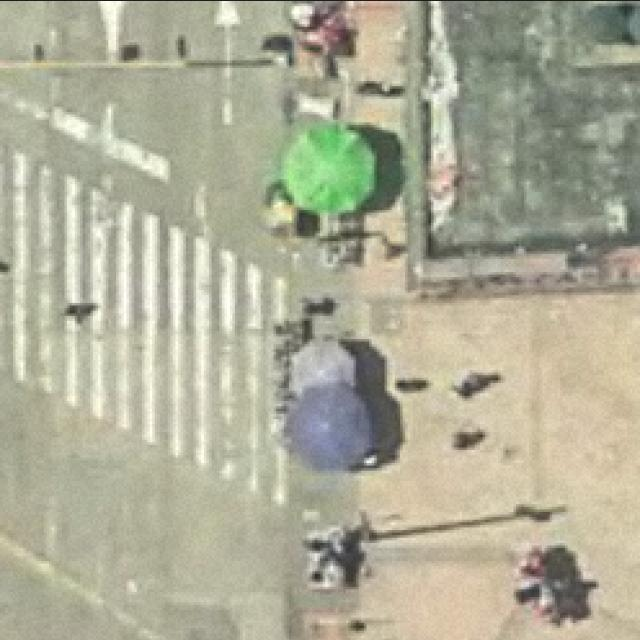vendedor_ambulante: (278, 121, 380, 221), (284, 380, 378, 472), (284, 342, 365, 402)
